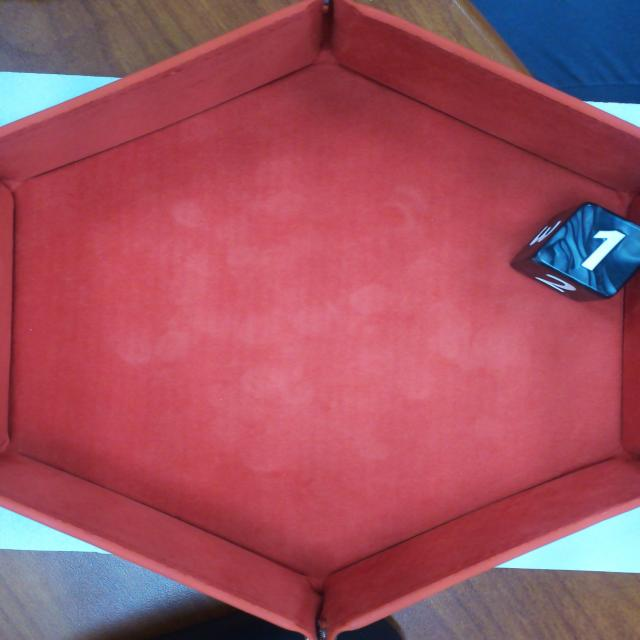dice: (543, 203, 640, 295)
